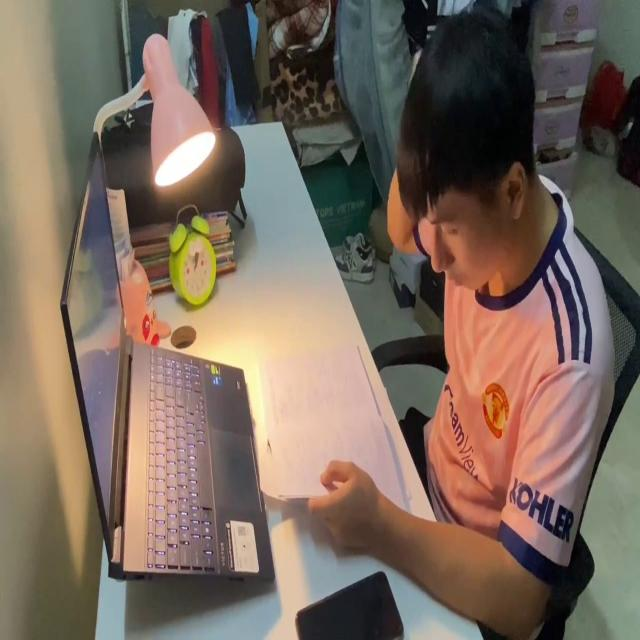book: (251, 327, 411, 518)
laptop: (56, 132, 276, 590)
phone: (297, 563, 407, 640)
student: (310, 10, 616, 634)
